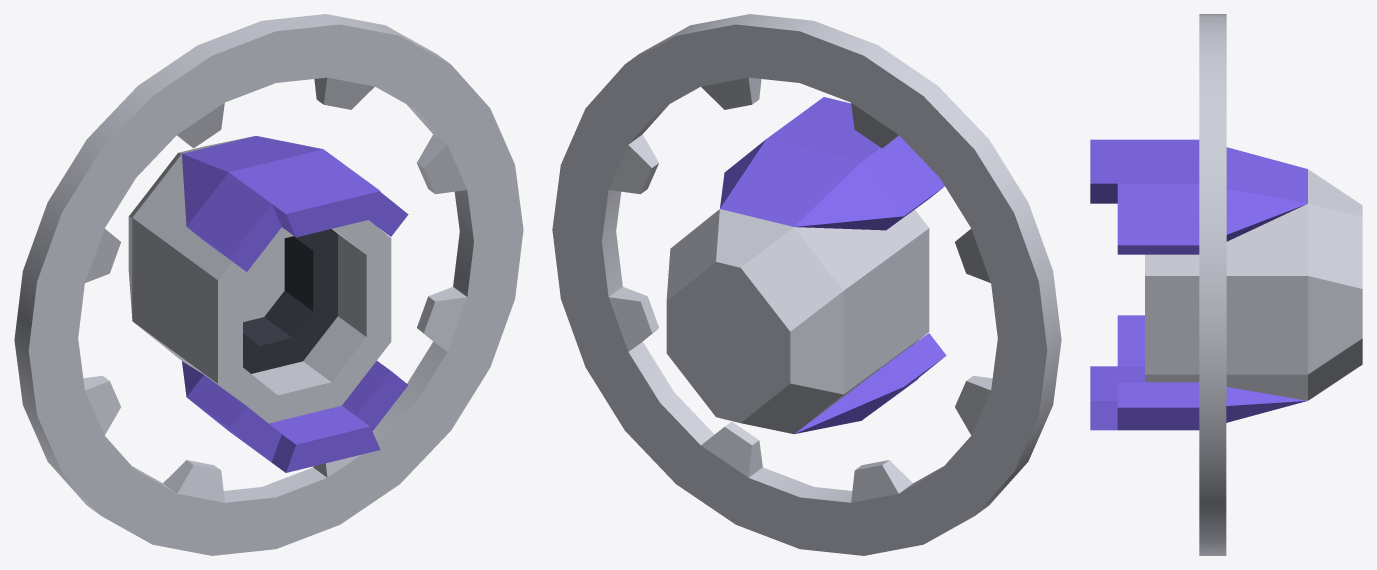
File: system_launcher.obj
3 renders of one model, left to right at view 1: azimuth 30°, elevation 25°; view 2: azimuth 150°, elevation 25°; view 3: azimuth 270°, elevation 25°, orthographic. The views are drawn at different scales.
Visible parts, largest first — view 1: mergedBlocks; view 2: mergedBlocks; view 3: mergedBlocks.
Boxes of the visible parts, <box> form: mergedBlocks: <box>14,14,523,555</box>; mergedBlocks: <box>552,14,1061,555</box>; mergedBlocks: <box>1090,14,1362,555</box>.
Bounding box in the file's own units: 2 × 2 × 1.
